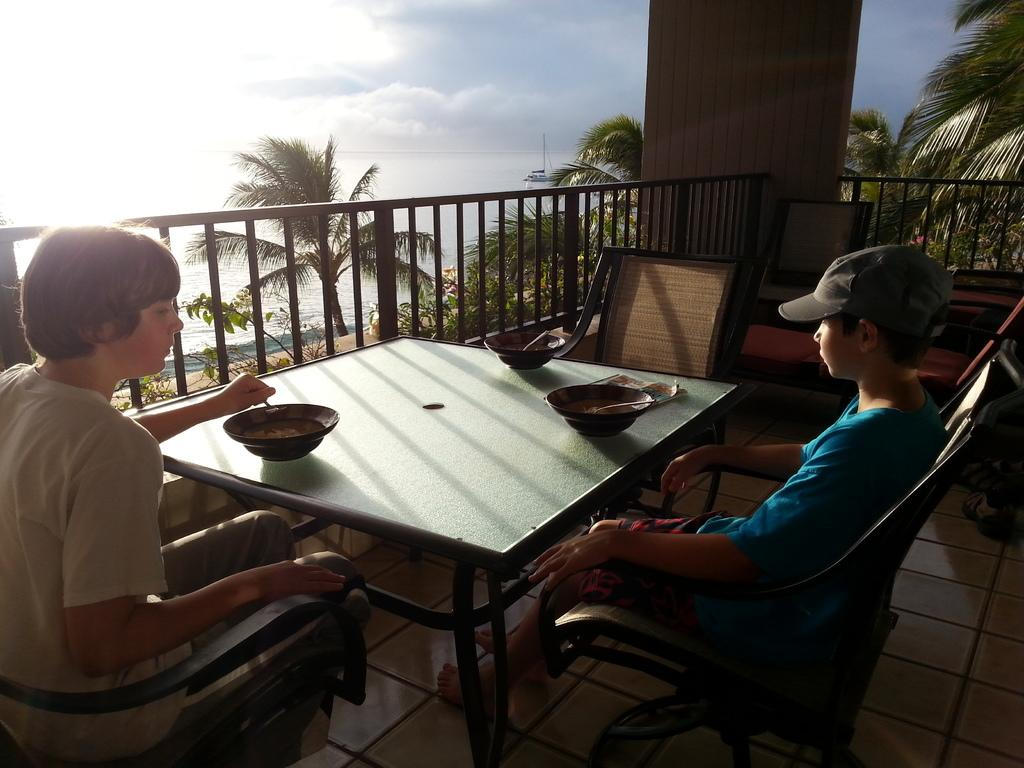Chair: (546, 357, 1004, 767), (0, 474, 362, 767), (497, 252, 762, 525)
